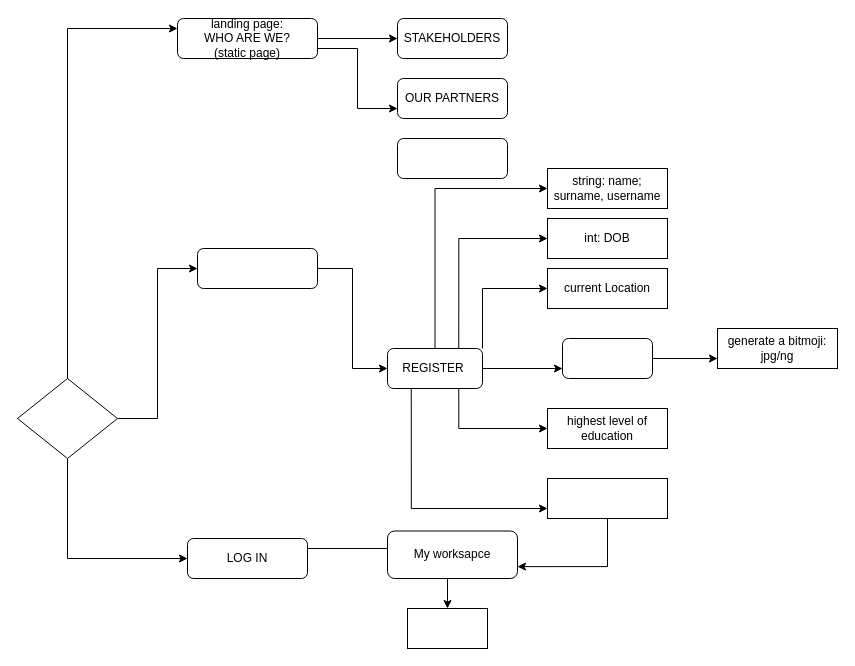
Image size: 855x666. Some labels were removed from this diagram. Each missing label, with the centre of its shape:
"CREATE AVATAR" belongs at (x=607, y=358).
"CREATE PROFILE" belongs at (x=67, y=418).
"edit" belongs at (x=447, y=628).
"OPPORTUNITIES" belongs at (x=452, y=158).
"SIGN UP" belongs at (x=257, y=268).
"string: email address" belongs at (x=607, y=498).
